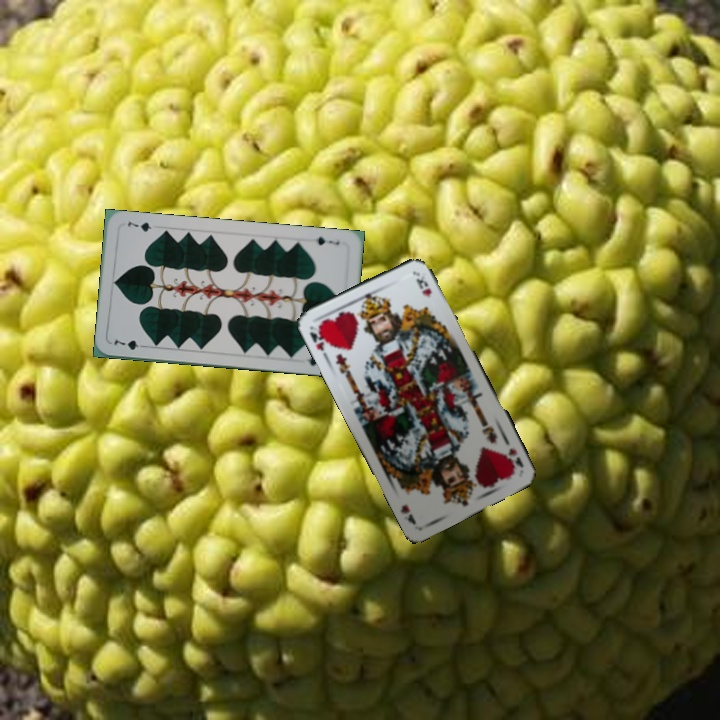G7: (110, 335, 149, 352), (307, 233, 342, 248)
HK: (306, 322, 330, 361), (504, 444, 526, 471)
